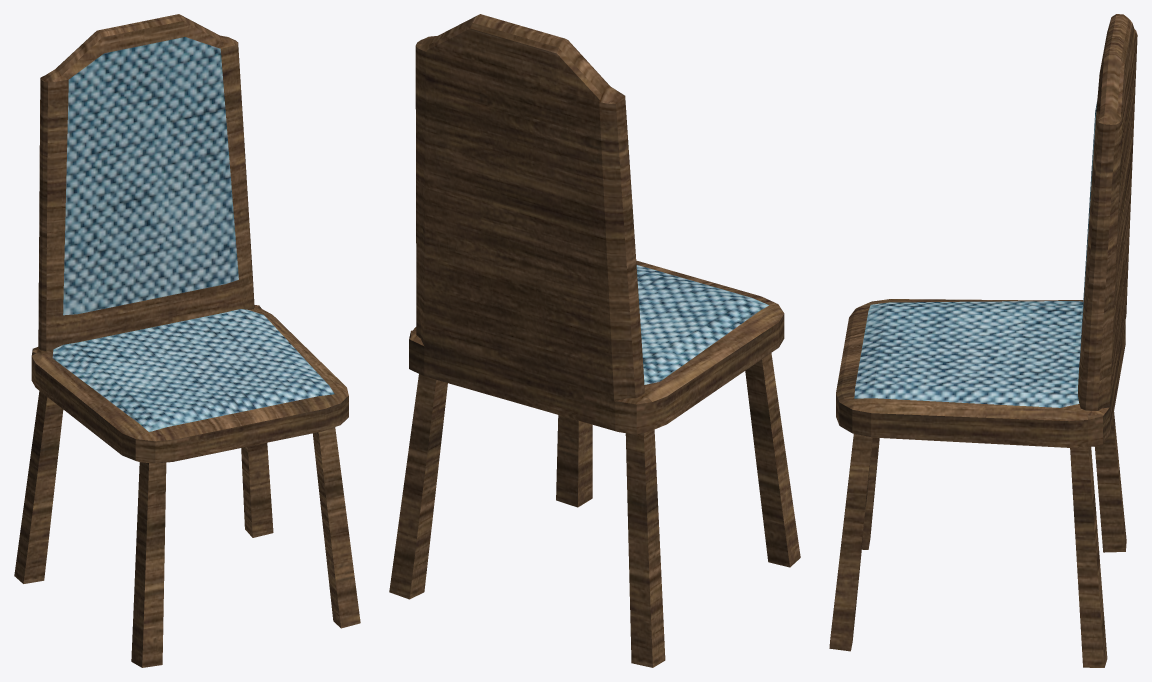
File: CHAIR_01.fbx
3 renders of one model, left to right at view 1: azimuth 30°, elevation 25°; view 2: azimuth 150°, elevation 25°; view 3: azimuth 270°, elevation 25°, orthographic. The views are drawn at different scales.
Parts seen in each view (by area): view 1: CHAIR_01; view 2: CHAIR_01; view 3: CHAIR_01.
Part boxes in pixels (box(x1,y1,x2,y2)): CHAIR_01: box(14, 14, 360, 667); CHAIR_01: box(389, 14, 800, 667); CHAIR_01: box(829, 14, 1137, 667).
Bounding box in the file's own units: 59.28 × 124 × 60.42.
